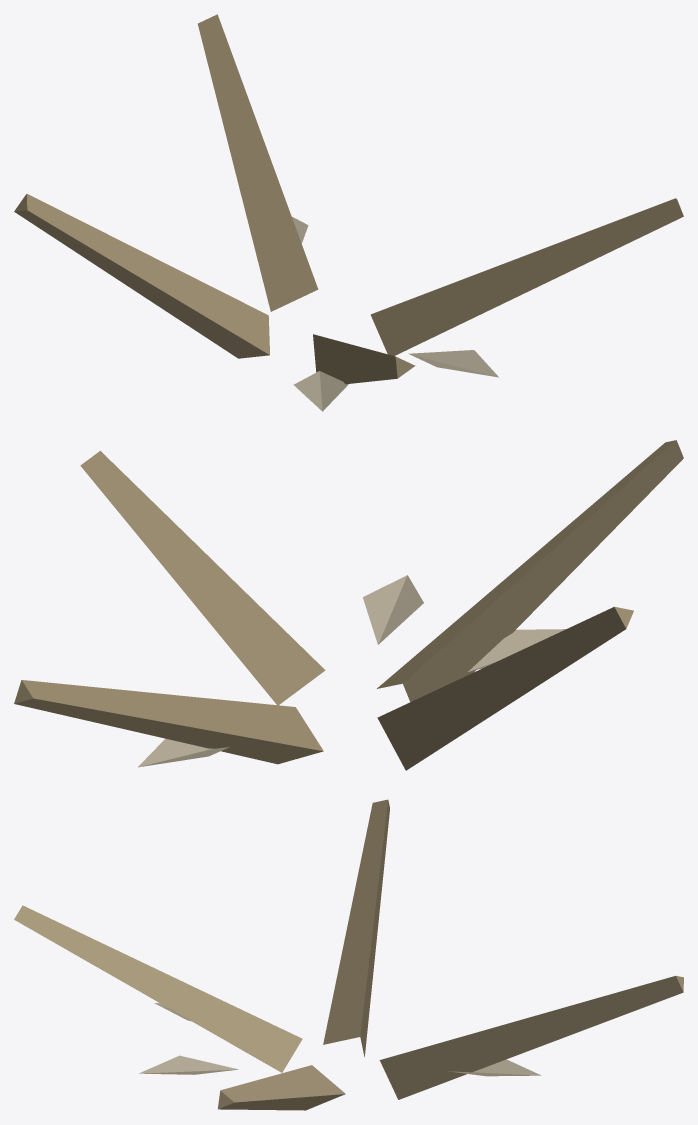
File: guan.lianqiao@withered__autumn.glb
3 views of the same model, one above another, from view 1: azimuth 30°, elevation 25°; view 2: azimuth 150°, elevation 25°; view 3: azimuth 270°, elevation 25° (orthographic). The views are drawn at different scales.
Visible parts, largest first — view 1: guan.lianqiao@withered__autumn; view 2: guan.lianqiao@withered__autumn; view 3: guan.lianqiao@withered__autumn.
Boxes of the visible parts, bbox=[...] form: guan.lianqiao@withered__autumn: bbox=[14, 14, 683, 411]; guan.lianqiao@withered__autumn: bbox=[14, 440, 683, 770]; guan.lianqiao@withered__autumn: bbox=[14, 799, 683, 1110].
Size of the model in its own units: 0.7914 by 0.273 by 0.9291.
